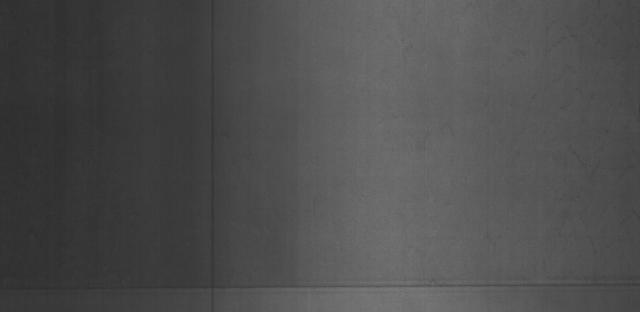welding_line: (3, 274, 640, 298)
